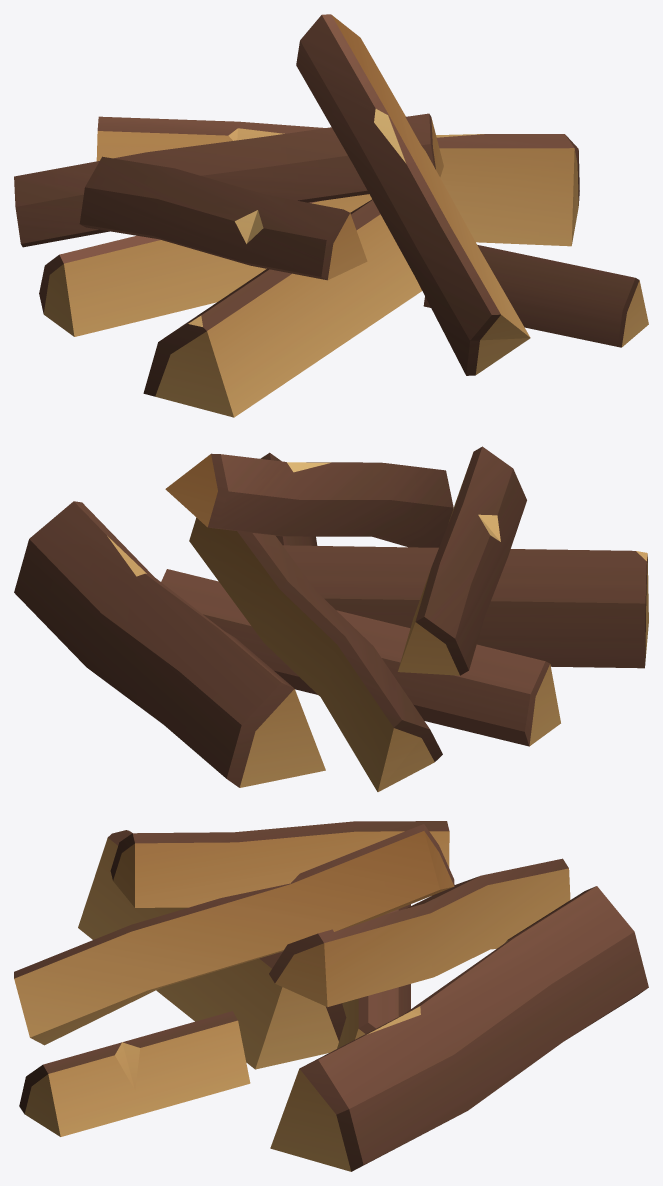
File: CutedWood_1_B.glb
3 views of the same model, one above another, from view 1: azimuth 30°, elevation 25°; view 2: azimuth 150°, elevation 25°; view 3: azimuth 270°, elevation 25° (orthographic). The views are drawn at different scales.
Parts seen in each view (by area): view 1: CutedWood_1_B; view 2: CutedWood_1_B; view 3: CutedWood_1_B.
Boxes of the visible parts, box(x1,y1,x2,y2) form: CutedWood_1_B: box(14, 14, 648, 417); CutedWood_1_B: box(14, 446, 648, 791); CutedWood_1_B: box(14, 821, 648, 1171).
Bounding box in the file's own units: 0.6294 × 0.2554 × 0.6257.
1 material, 1 textured.
